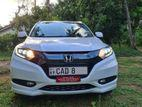car: (10, 20, 120, 96)
